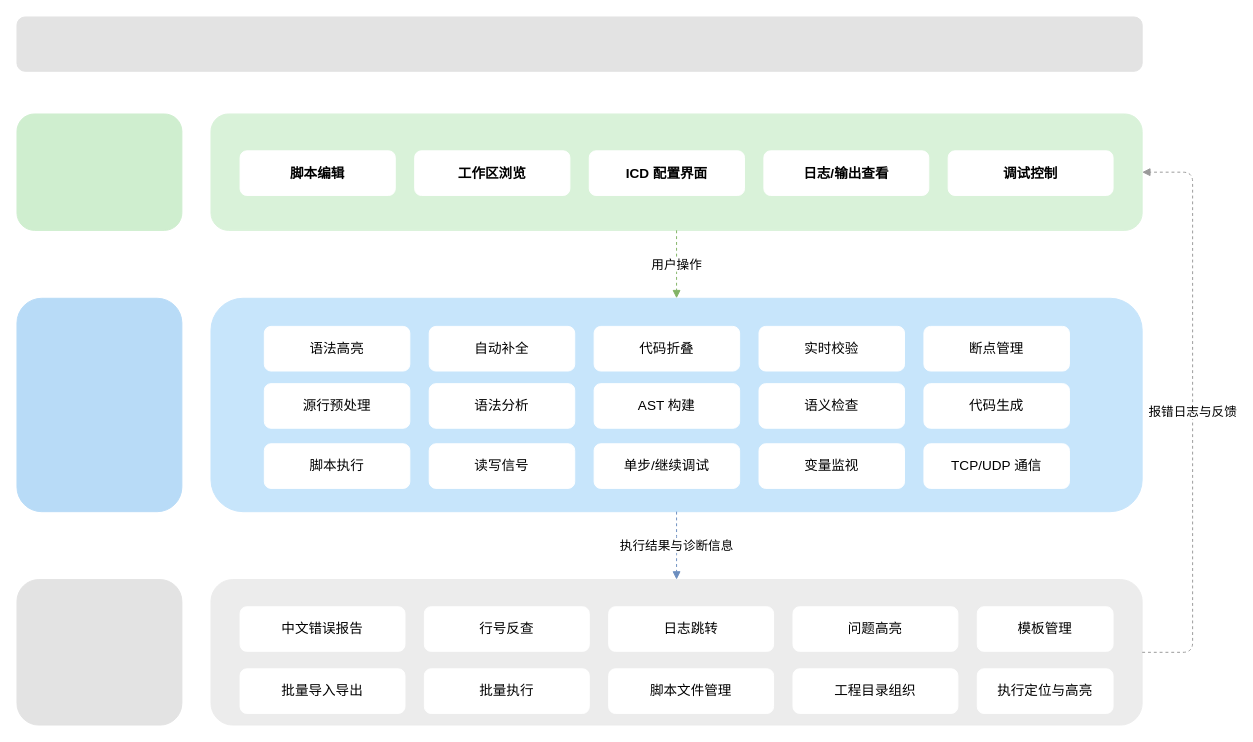
Image size: 1253x742. Some labels were removed from this diagram. The centre of each missing label's shape, as x and y in pixels:
功能模块架构: point 579,43
用户与编辑层: point 99,171
翻译与执行核心层: point 99,404
诊断与资源支撑层: point 99,652
